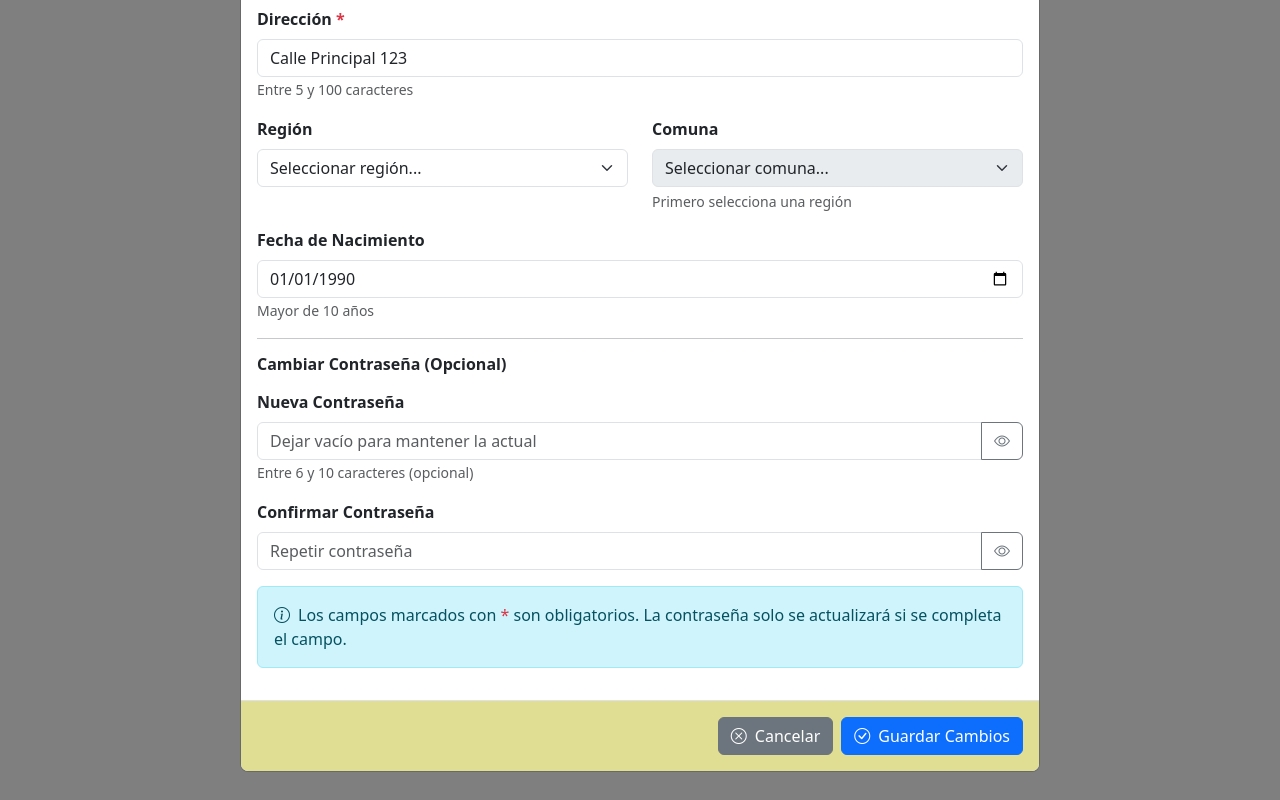
it: PerfilModal › debería validar región y comuna relacionadas
(page scrolled)
Click the button "Guardar Cambios". click: click(932, 736)
box: left=841, top=717, right=1023, bottom=755
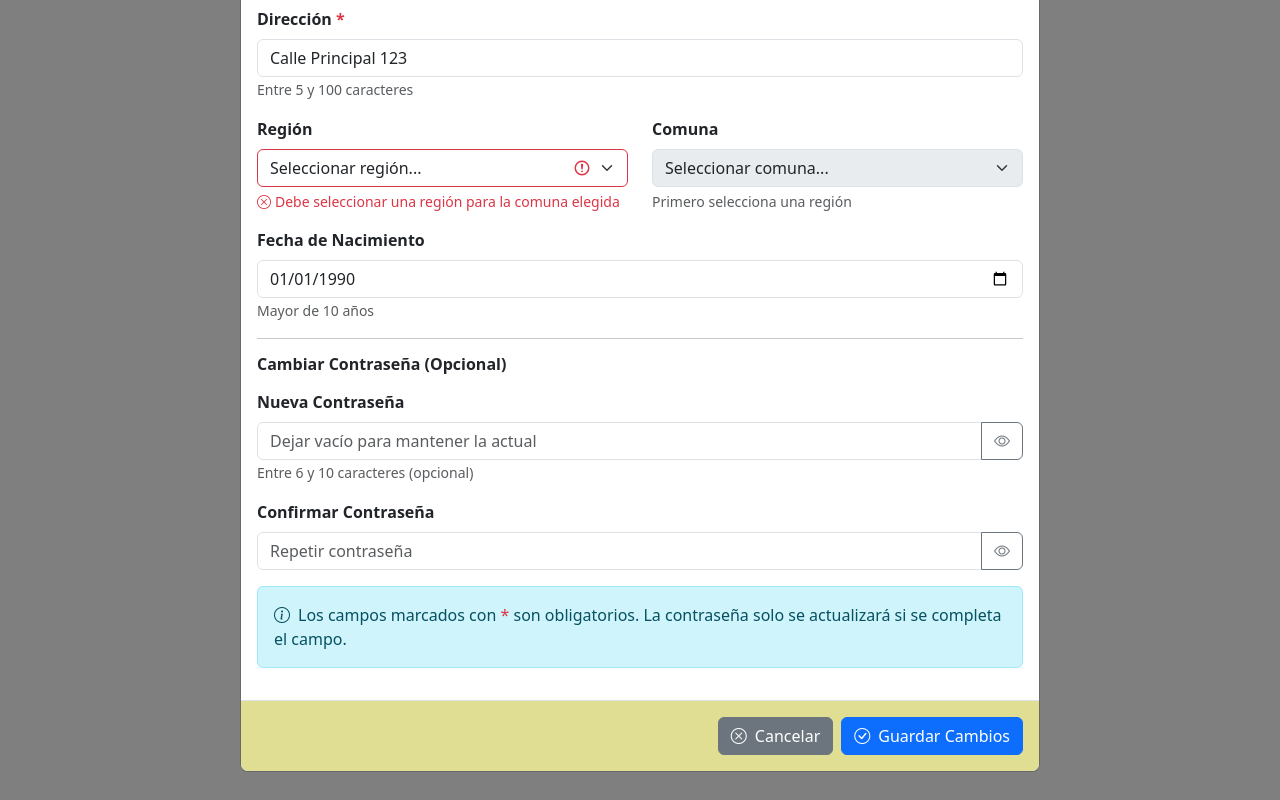
Check: the text "Debe seleccionar una región para la comuna elegida" is shown, box left=257, top=191, right=628, bottom=212
